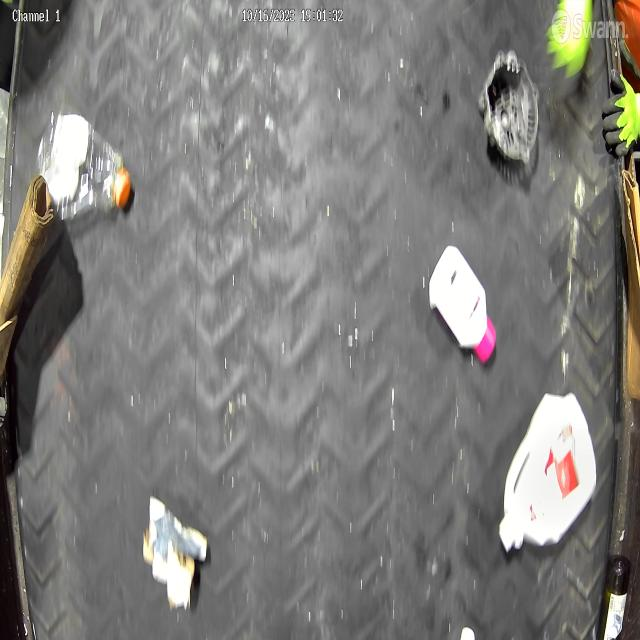milk_jug: (498, 394, 597, 555)
plastic_bottle: (39, 112, 131, 217)
